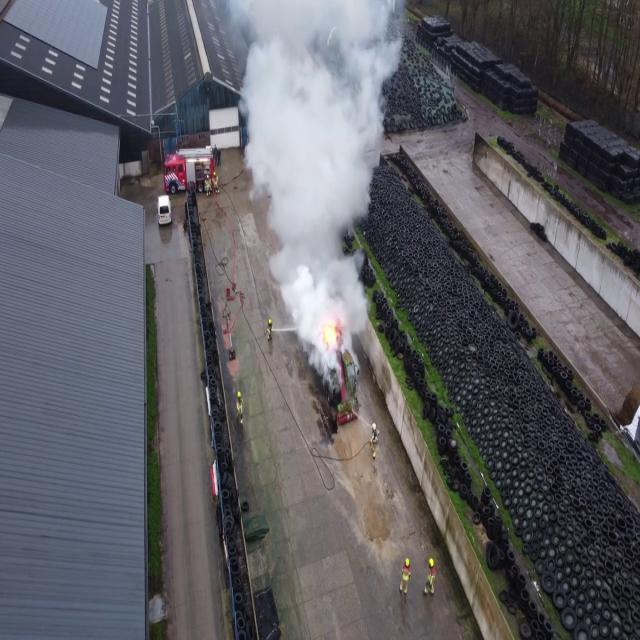Fire: (319, 313, 341, 352)
Smoke: (233, 0, 404, 336)
